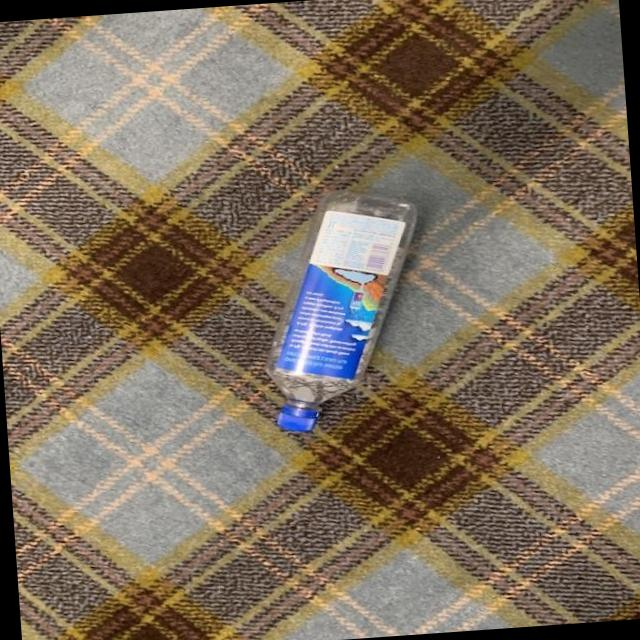plastic_bottle: (251, 183, 431, 434)
